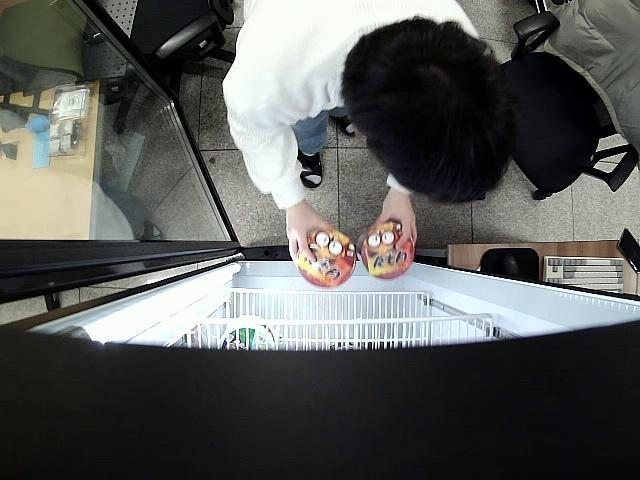05_nuguri_L: (296, 230, 356, 284), (360, 223, 415, 280)
